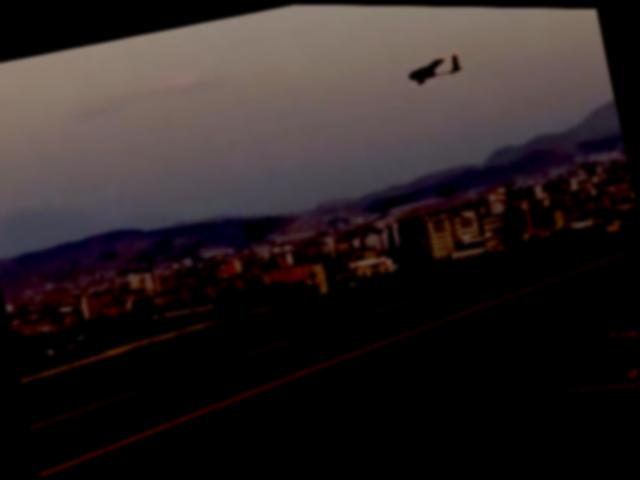uav: (397, 38, 473, 98)
